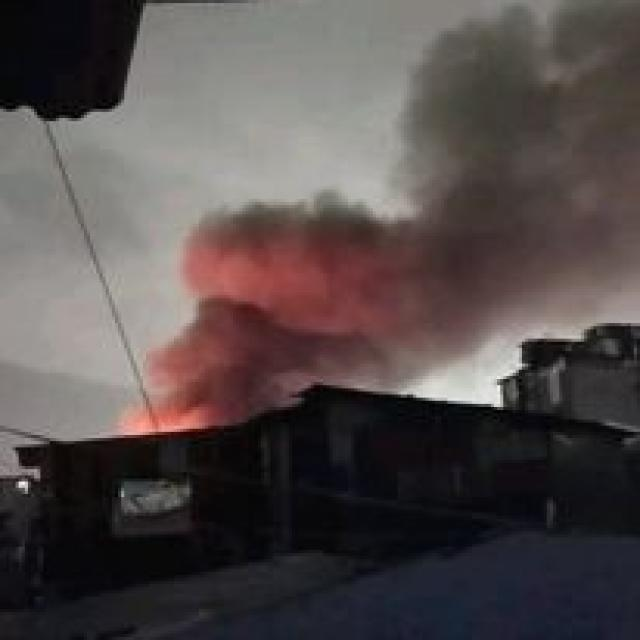Smoke: (405, 18, 640, 306), (184, 218, 440, 384)
